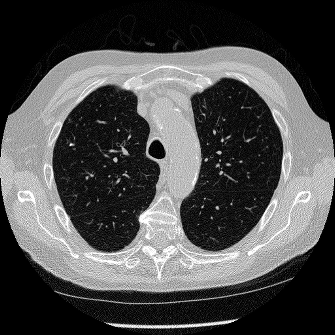nodule: (69, 143, 73, 147)
